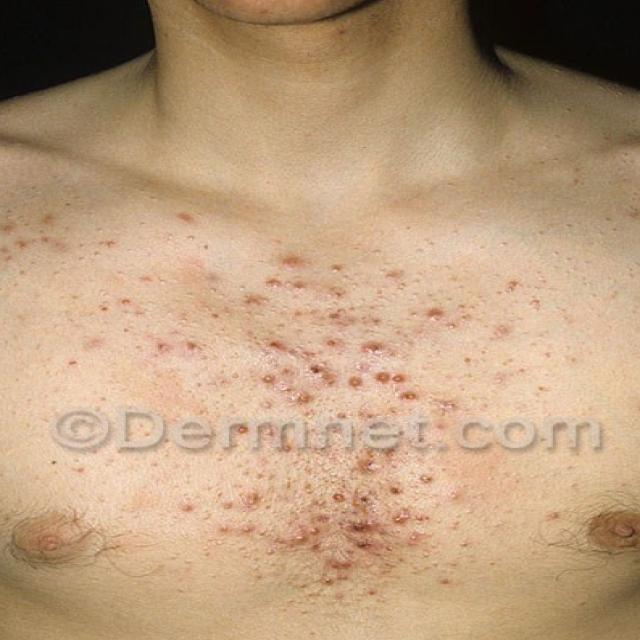Acne: (266, 337, 437, 419), (391, 272, 542, 333), (455, 352, 560, 428), (115, 282, 207, 364), (187, 487, 278, 549), (327, 489, 393, 559), (0, 215, 81, 270), (298, 560, 383, 602), (582, 184, 640, 244), (32, 448, 115, 489), (258, 251, 325, 299), (63, 331, 109, 396), (165, 207, 210, 234)
